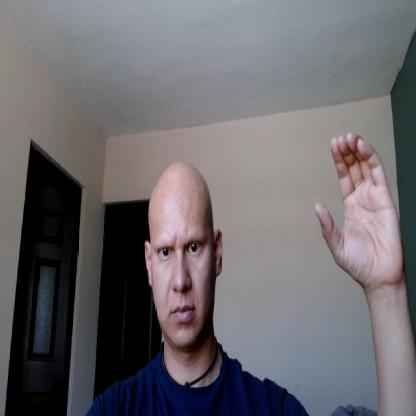C: (313, 134, 403, 284)
